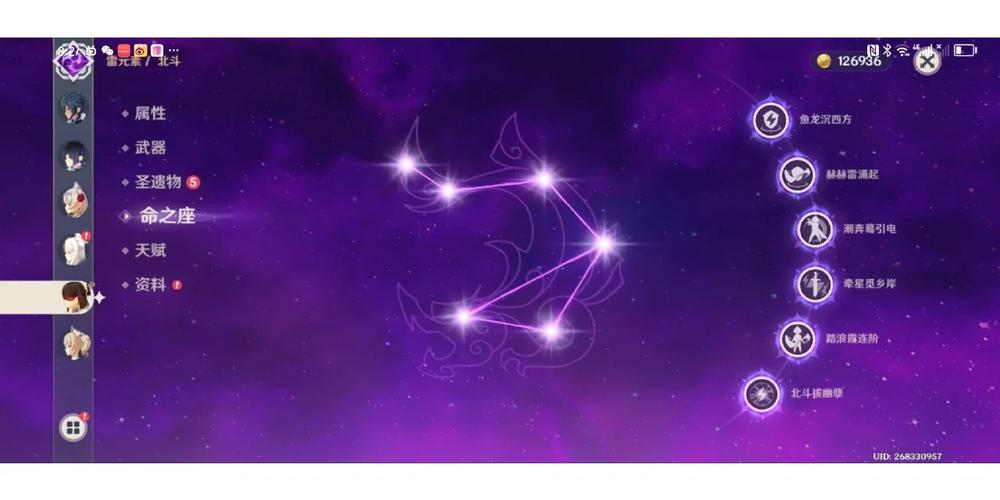夜兰: (59, 142, 88, 175)
